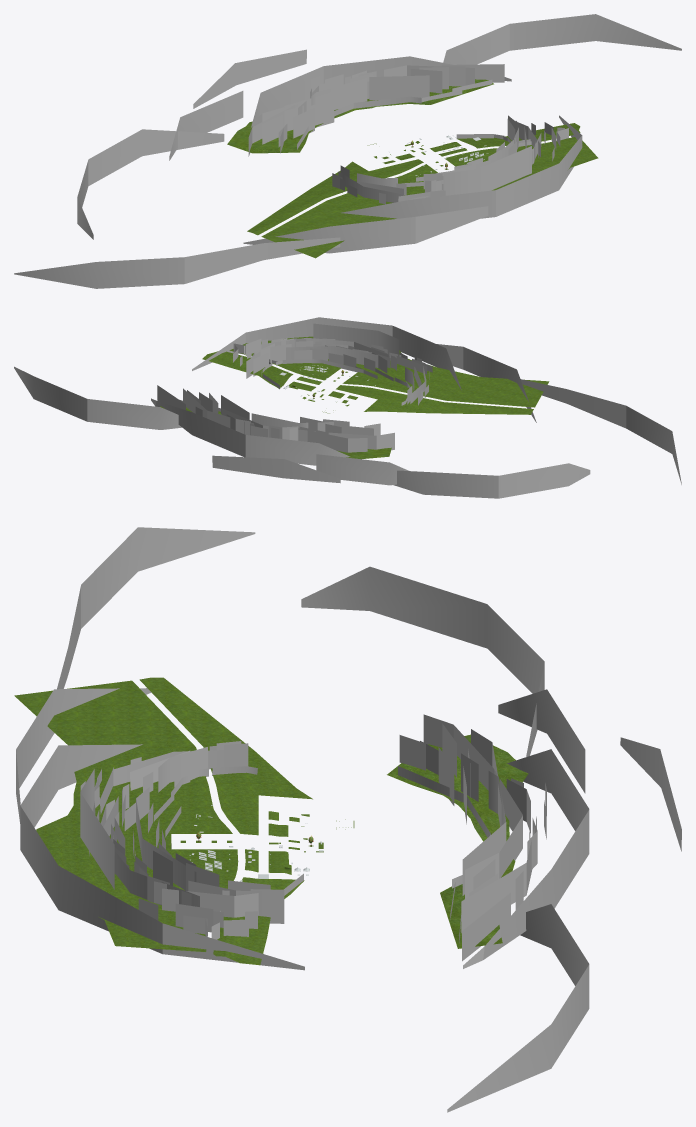
File: K_studio_1125_Winter.fbx
The picture shows the model from 3 angles, top to bottom: view 1: azimuth 30°, elevation 25°; view 2: azimuth 150°, elevation 25°; view 3: azimuth 270°, elevation 25°; orthographic projection. The views are drawn at different scales.
Visible parts, largest first — view 1: Background, Grass, Background_02; view 2: Background, Grass, Background_02; view 3: Background, Grass, Background_02.
Boxes of the visible parts, bbox=[...] form: Background: bbox=[14, 14, 681, 288]; Grass: bbox=[227, 79, 598, 258]; Background_02: bbox=[297, 80, 510, 186]; Background: bbox=[14, 317, 681, 498]; Grass: bbox=[160, 336, 549, 459]; Background_02: bbox=[180, 359, 410, 411]; Background: bbox=[16, 527, 681, 1112]; Grass: bbox=[14, 677, 528, 965]; Background_02: bbox=[154, 766, 490, 943].
Size of the model in its own units: 84134 by 4833 by 40596.
